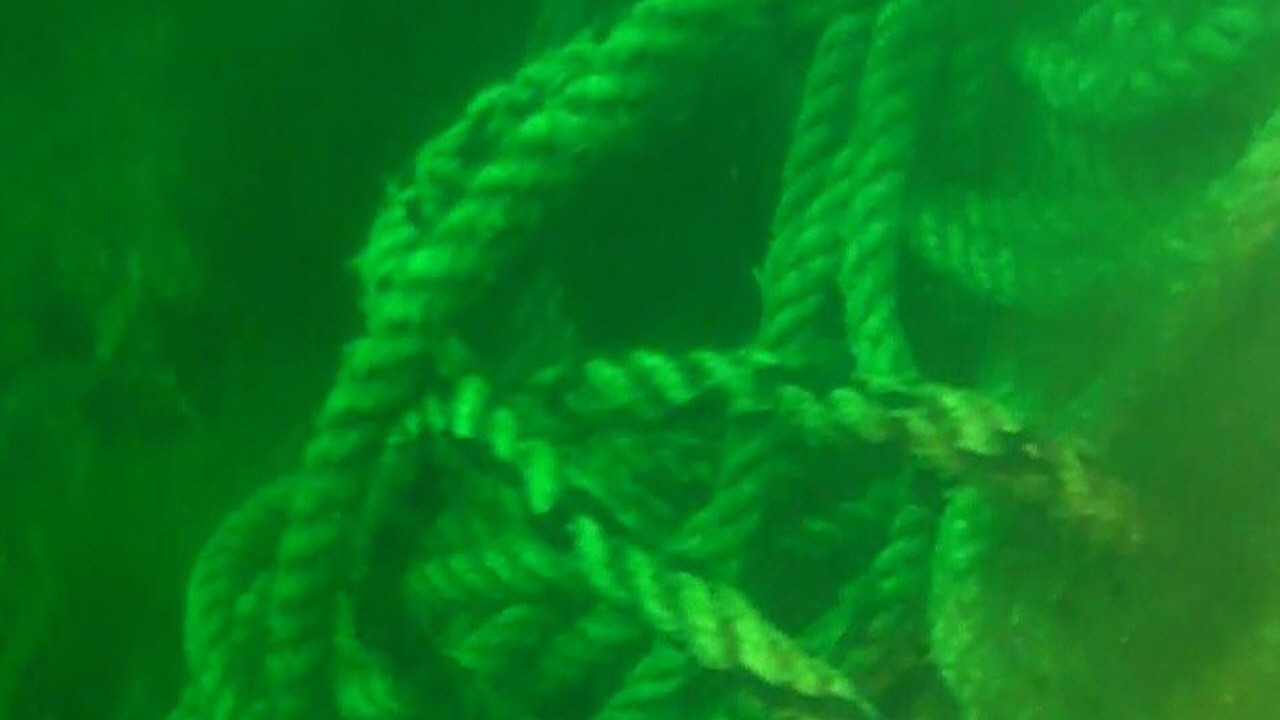bundle of ropes: (183, 2, 1280, 720)
